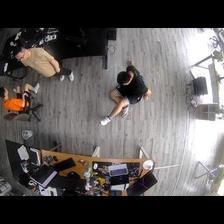fall: (98, 55, 153, 127)
normal: (12, 45, 74, 82), (1, 84, 42, 112)
